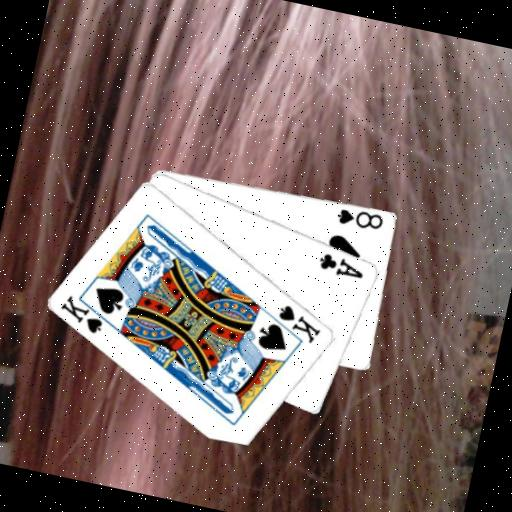8S: (332, 203, 386, 233)
AC: (314, 248, 368, 282)
KS: (54, 289, 118, 339), (270, 299, 326, 345)
